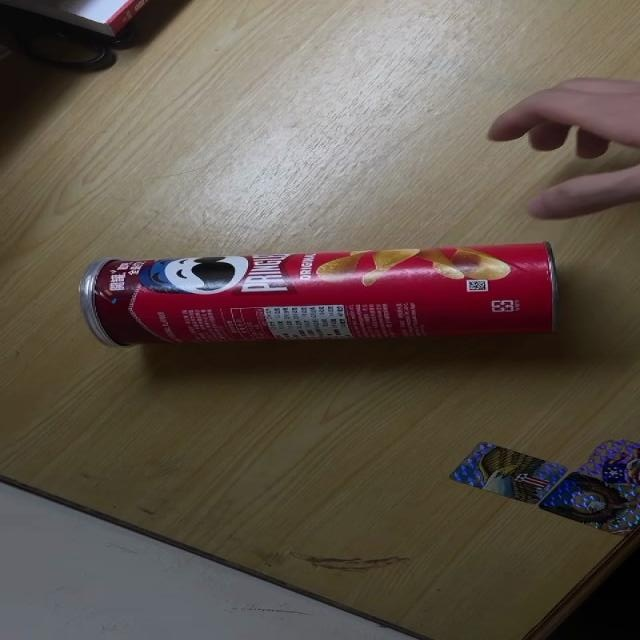Pringles: (81, 243, 561, 348)
